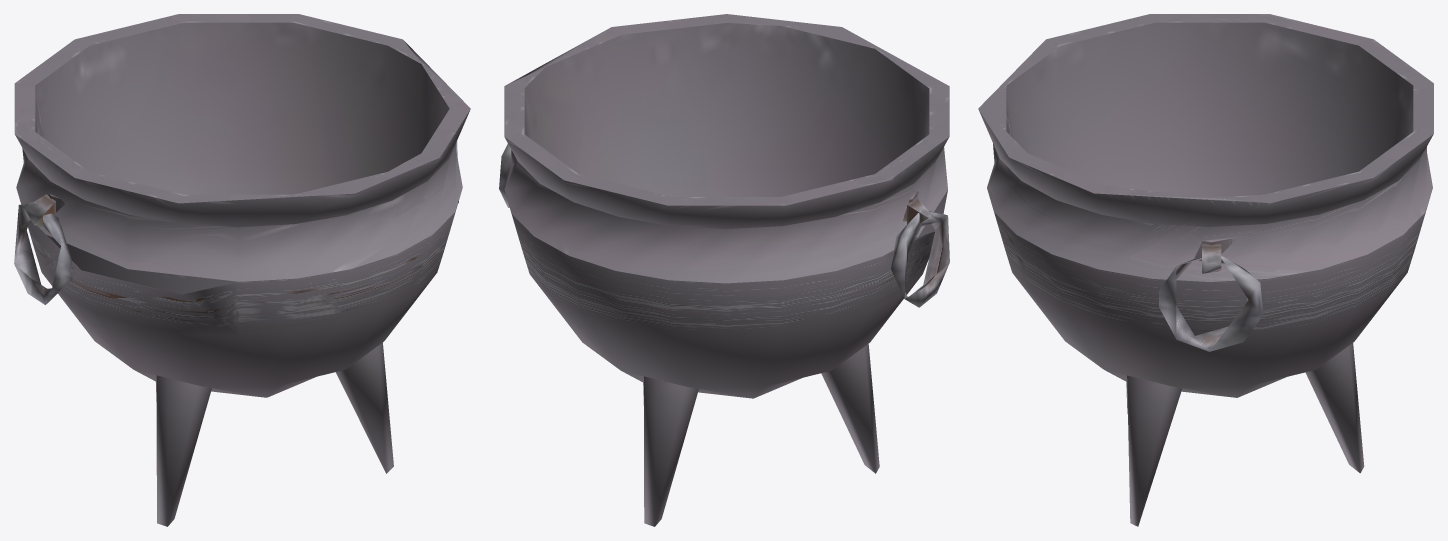
File: Cauldron.medium.gltf
3 renders of one model, left to right at view 1: azimuth 30°, elevation 25°; view 2: azimuth 150°, elevation 25°; view 3: azimuth 270°, elevation 25°, orthographic.
Parts seen in each view (by area): view 1: Cauldron; view 2: Cauldron; view 3: Cauldron.
Part boxes in pixels (x1,y1,x2,y2): Cauldron: (14, 14, 470, 526); Cauldron: (499, 14, 949, 526); Cauldron: (978, 14, 1433, 526).
Size of the model in its own units: 0.9844 by 0.8132 by 0.9278.
Materials: 1 (1 with a texture image).
